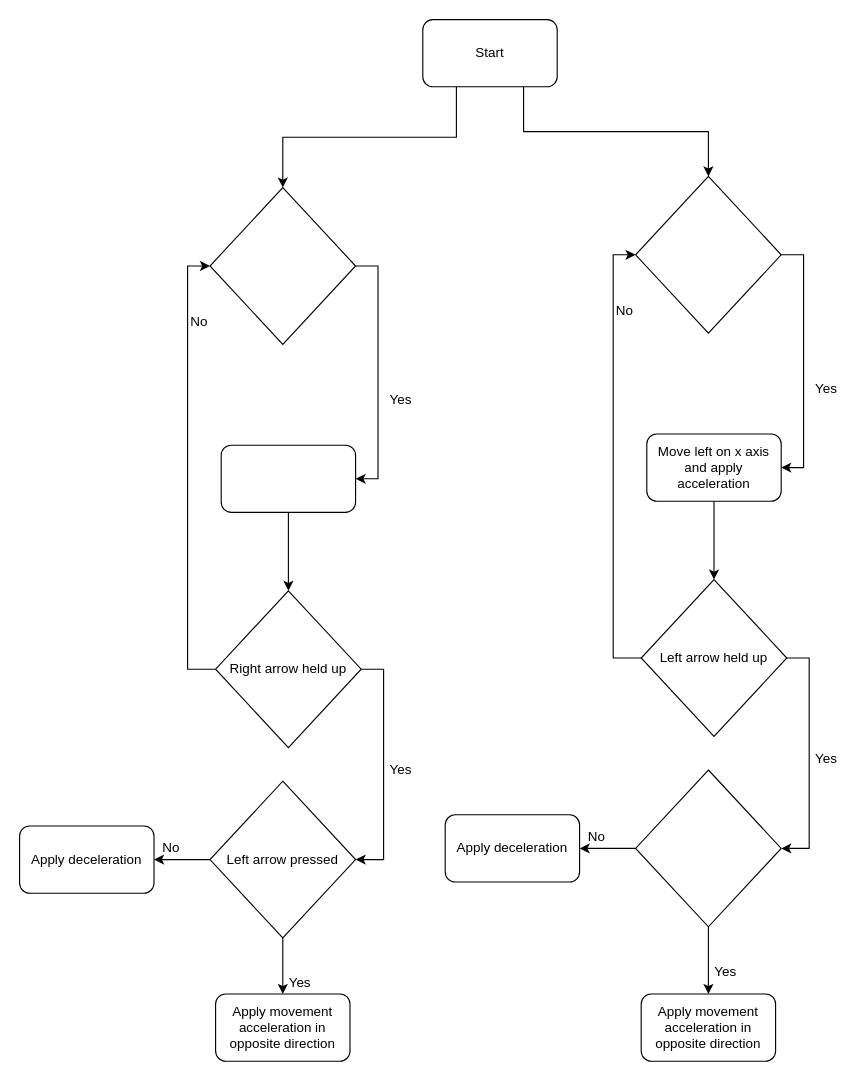
This 868x1081 diagram has some shape labels left out. The shapes that lost their labels are listed below. From the top down, each one's box as (x1, y1, x2, y2) in pixels, then its label:
(209, 186, 356, 344): Right arrow held down
(634, 175, 781, 333): Left arrow held down
(220, 444, 356, 512): Move right on x axis and apply acceleration
(634, 769, 781, 927): Right arrow pressed
